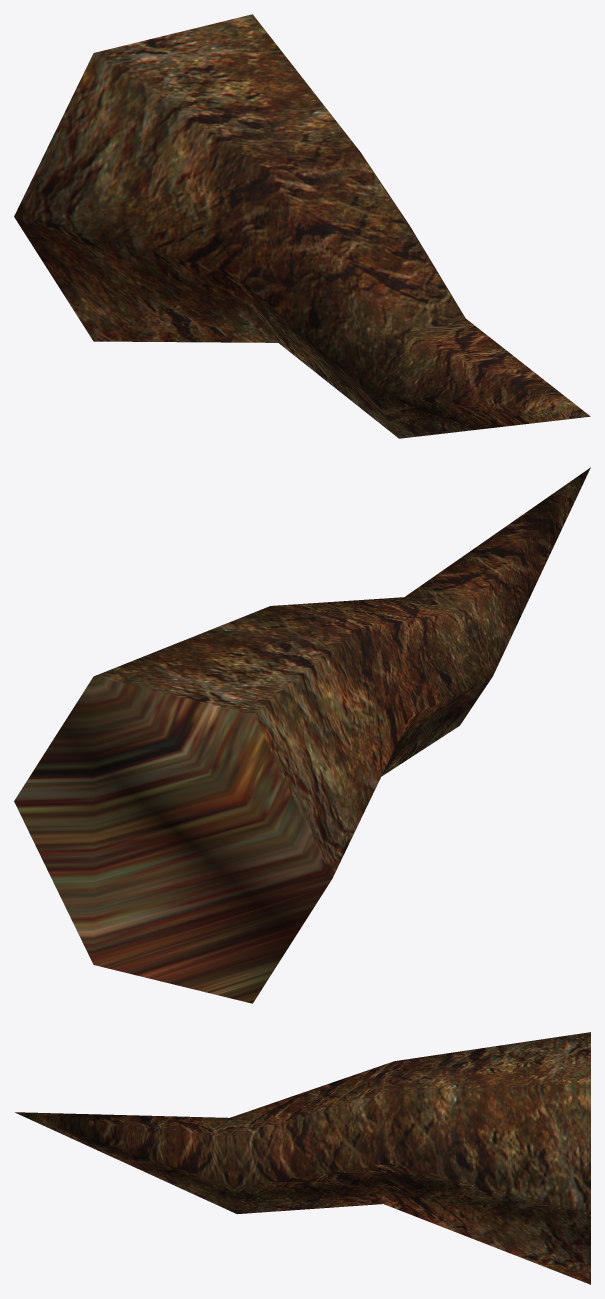
File: stalagmite_02.obj
3 views of the same model, one above another, from view 1: azimuth 30°, elevation 25°; view 2: azimuth 150°, elevation 25°; view 3: azimuth 270°, elevation 25° (orthographic). The views are drawn at different scales.
Visible parts, largest first — view 1: (null); view 2: (null); view 3: (null).
Part boxes in pixels (left/top/right/bottom): (null): left=14, top=14, right=590, bottom=438; (null): left=14, top=467, right=590, bottom=1003; (null): left=15, top=1032, right=590, bottom=1284.
Bounding box in the file's own units: 3.81 × 3.3 × 8.66.
